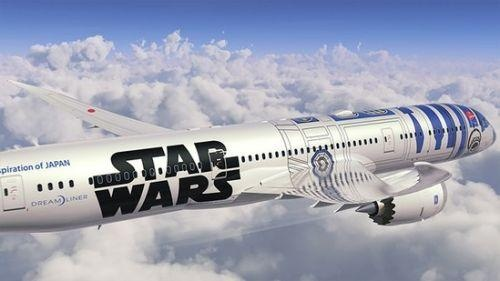airplane: (2, 98, 499, 226)
